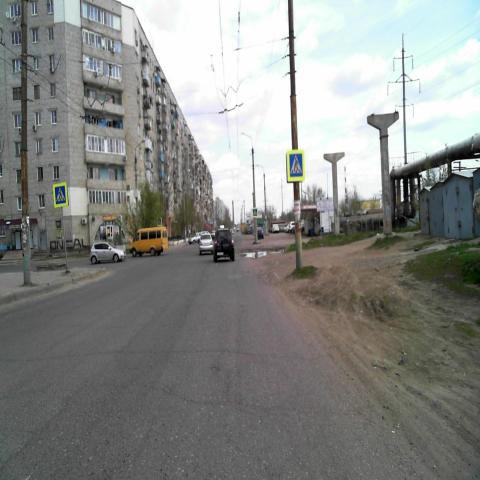5_19_1: (287, 150, 303, 182), (54, 183, 68, 207)
